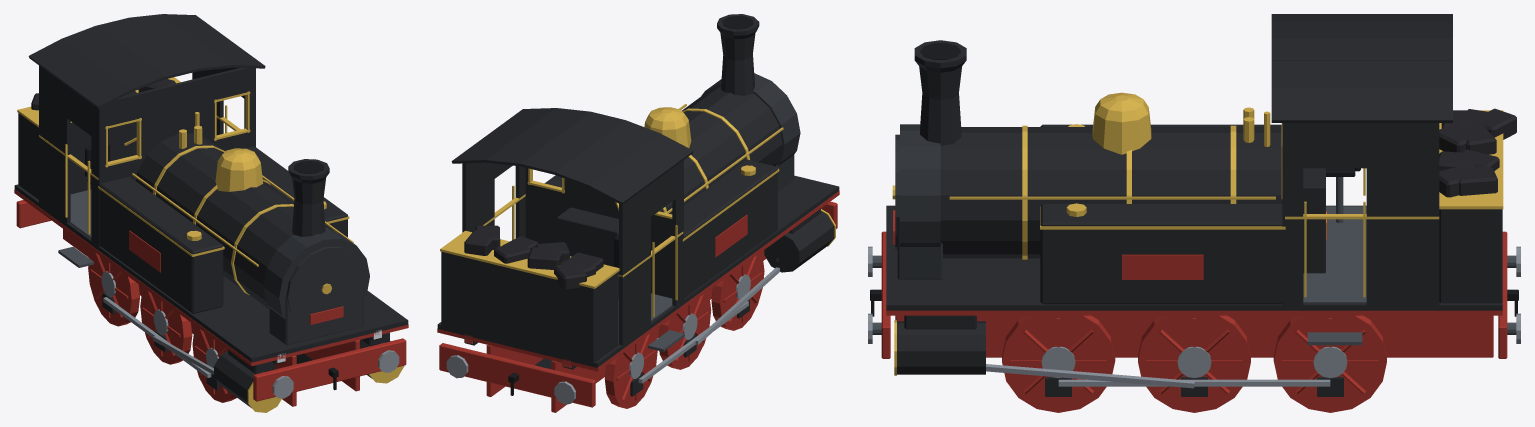
Rendered from locomotive_vapeur.glb.
3 views of the same model, side by side, from view 1: azimuth 30°, elevation 25°; view 2: azimuth 150°, elevation 25°; view 3: azimuth 270°, elevation 25° (orthographic). The views are drawn at different scales.
Parts seen in each view (by area): view 1: pieces_loco_noir.002, pieces_fonte.008, pieces_loco_rouge.002, pieces_laiton.002, cheminee.002, roues_ar_loco_rouge.002, roues_motrices_loco_rouge.002, pieces_acier.008, dome.002, pieces_acier_sombre.008, roues_av_loco_rouge.002, pieces_noir.008; view 2: pieces_loco_noir.002, pieces_loco_rouge.002, pieces_laiton.002, pieces_charbon.002, cheminee.002, pieces_fonte.008, pieces_acier.008, roues_ar_loco_rouge.002, roues_av_loco_rouge.002, roues_motrices_loco_rouge.002, dome.002, pieces_acier_sombre.008 (+1 smaller); view 3: pieces_loco_noir.002, pieces_loco_rouge.002, pieces_laiton.002, roues_motrices_loco_rouge.002, roues_av_loco_rouge.002, roues_ar_loco_rouge.002, pieces_fonte.008, pieces_acier_sombre.008, pieces_charbon.002, pieces_acier.008, cheminee.002, dome.002 (+4 smaller).
Boxes of the visible parts, x1=… form: pieces_loco_noir.002: x1=14, y1=14, x2=408, y2=408; pieces_fonte.008: x1=263, y1=227, x2=369, y2=344; pieces_loco_rouge.002: x1=14, y1=189, x2=408, y2=406; pieces_laiton.002: x1=17, y1=77, x2=404, y2=412; cheminee.002: x1=288, y1=159, x2=329, y2=236; roues_ar_loco_rouge.002: x1=88, y1=250, x2=139, y2=326; roues_motrices_loco_rouge.002: x1=140, y1=288, x2=192, y2=364; pieces_acier.008: x1=103, y1=297, x2=399, y2=398; dome.002: x1=215, y1=148, x2=263, y2=191; pieces_acier_sombre.008: x1=58, y1=189, x2=93, y2=267; roues_av_loco_rouge.002: x1=192, y1=326, x2=236, y2=402; pieces_noir.008: x1=85, y1=143, x2=338, y2=390; pieces_loco_noir.002: x1=437, y1=86, x2=839, y2=369; pieces_loco_rouge.002: x1=437, y1=191, x2=839, y2=412; pieces_laiton.002: x1=440, y1=104, x2=835, y2=317; pieces_charbon.002: x1=464, y1=225, x2=603, y2=290; cheminee.002: x1=717, y1=14, x2=759, y2=95; pieces_fonte.008: x1=701, y1=73, x2=800, y2=191; pieces_acier.008: x1=446, y1=258, x2=779, y2=404; roues_ar_loco_rouge.002: x1=605, y1=331, x2=657, y2=408; roues_av_loco_rouge.002: x1=711, y1=253, x2=764, y2=330; roues_motrices_loco_rouge.002: x1=658, y1=292, x2=711, y2=369; dome.002: x1=644, y1=107, x2=691, y2=147; pieces_acier_sombre.008: x1=618, y1=293, x2=684, y2=351; pieces_loco_noir.002: x1=886, y1=14, x2=1502, y2=374; pieces_loco_rouge.002: x1=881, y1=210, x2=1507, y2=358; pieces_laiton.002: x1=892, y1=107, x2=1503, y2=375; roues_motrices_loco_rouge.002: x1=1138, y1=315, x2=1250, y2=412; roues_av_loco_rouge.002: x1=1002, y1=315, x2=1115, y2=412; roues_ar_loco_rouge.002: x1=1273, y1=315, x2=1386, y2=412; pieces_fonte.008: x1=895, y1=124, x2=942, y2=279; pieces_acier_sombre.008: x1=872, y1=177, x2=1516, y2=345; pieces_charbon.002: x1=1439, y1=108, x2=1516, y2=197; pieces_acier.008: x1=868, y1=246, x2=1520, y2=388; cheminee.002: x1=914, y1=40, x2=966, y2=146; dome.002: x1=1092, y1=92, x2=1151, y2=154.
Size of the model in its own units: 2.95 by 4.05 by 7.2.
